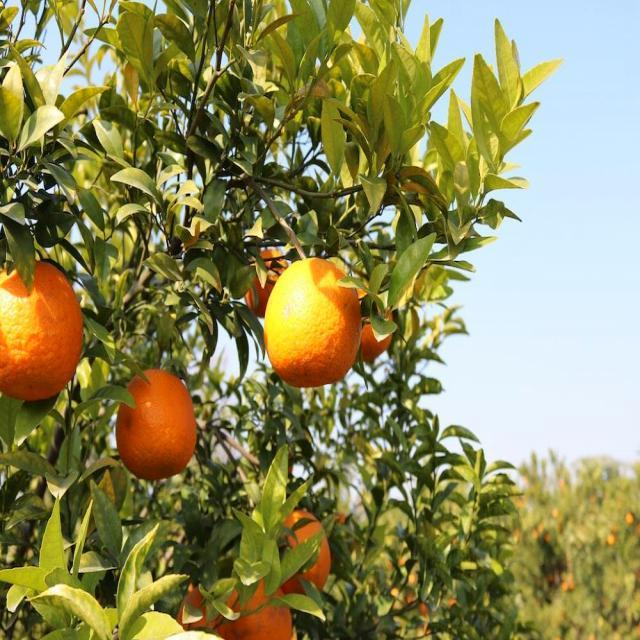Jeruk Sudah Matang: (265, 259, 358, 387), (0, 259, 84, 400), (116, 370, 196, 480), (270, 508, 334, 600), (218, 571, 292, 640), (358, 286, 393, 365), (247, 247, 288, 312)
